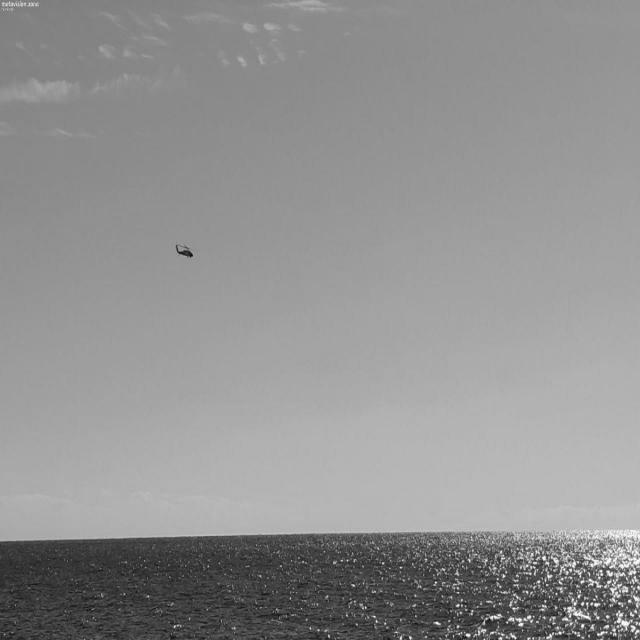helikopter: (164, 223, 217, 275)
